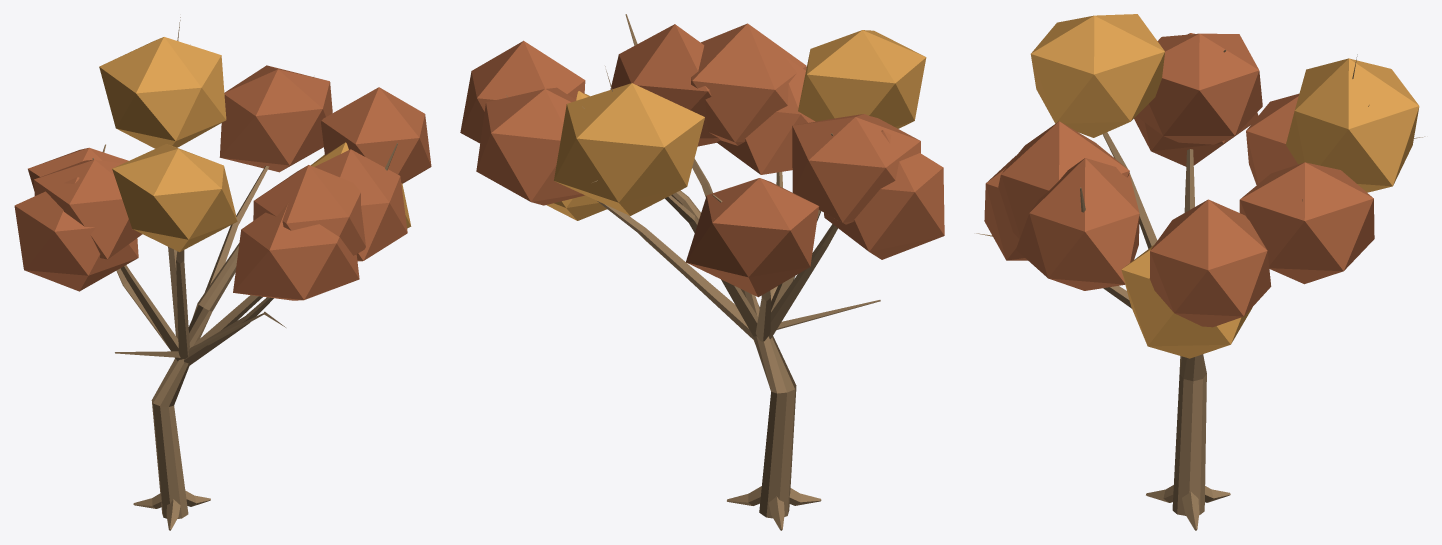
Rendered from oak_winter_light_03.glb.
3 views of the same model, side by side, from view 1: azimuth 30°, elevation 25°; view 2: azimuth 150°, elevation 25°; view 3: azimuth 270°, elevation 25° (orthographic). The views are drawn at different scales.
Parts seen in each view (by area): view 1: Oak_winter_light_03; view 2: Oak_winter_light_03; view 3: Oak_winter_light_03.
Part boxes in pixels (x1=…): Oak_winter_light_03: x1=14, y1=17, x2=431, y2=530; Oak_winter_light_03: x1=460, y1=14, x2=944, y2=530; Oak_winter_light_03: x1=976, y1=14, x2=1424, y2=530.
Size of the model in its own units: 13.76 by 13.8 by 11.28.
